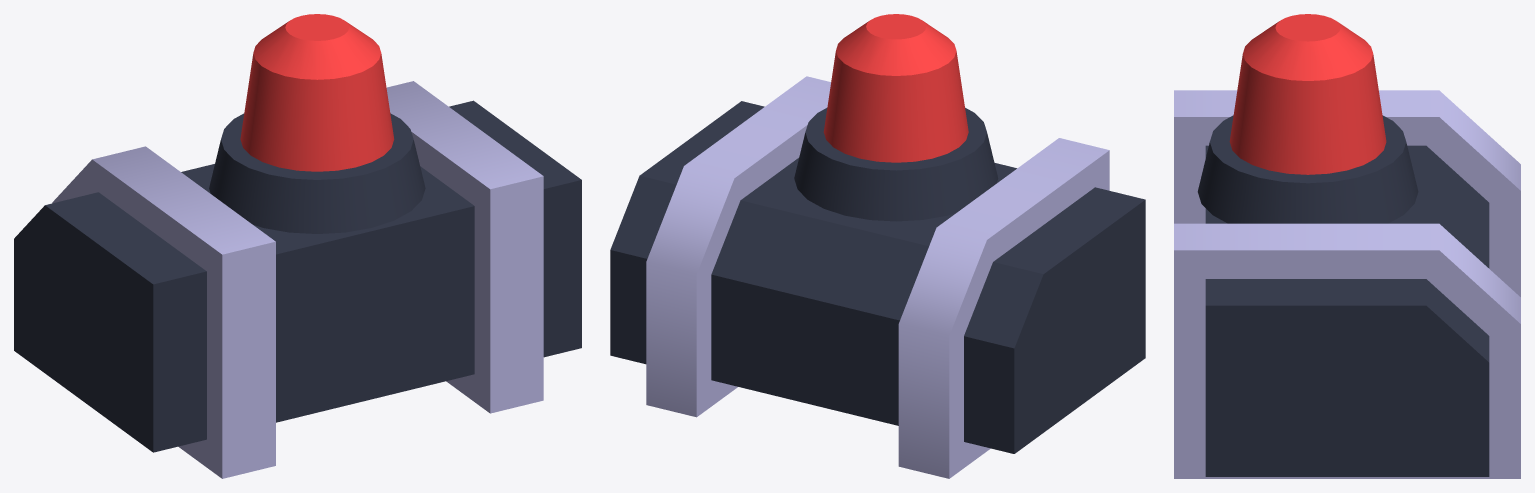
The model's file is bomb.fbx.
3 renders of one model, left to right at view 1: azimuth 30°, elevation 25°; view 2: azimuth 150°, elevation 25°; view 3: azimuth 270°, elevation 25°, orthographic. The views are drawn at different scales.
Parts seen in each view (by area): view 1: mergedBlocks; view 2: mergedBlocks; view 3: mergedBlocks.
Part boxes in pixels (<box>): mergedBlocks: <box>14,14,581,478</box>; mergedBlocks: <box>610,14,1145,478</box>; mergedBlocks: <box>1174,14,1520,478</box>.
Size of the model in its own units: 64 by 51.95 by 44.
